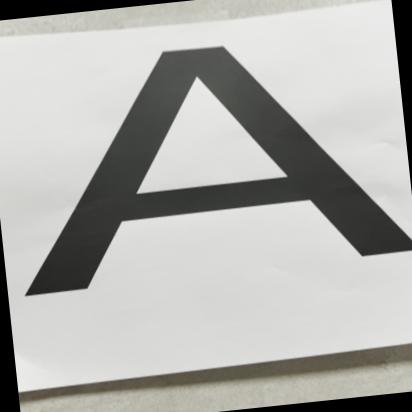seat: (0, 17, 412, 328), (0, 15, 391, 329)
